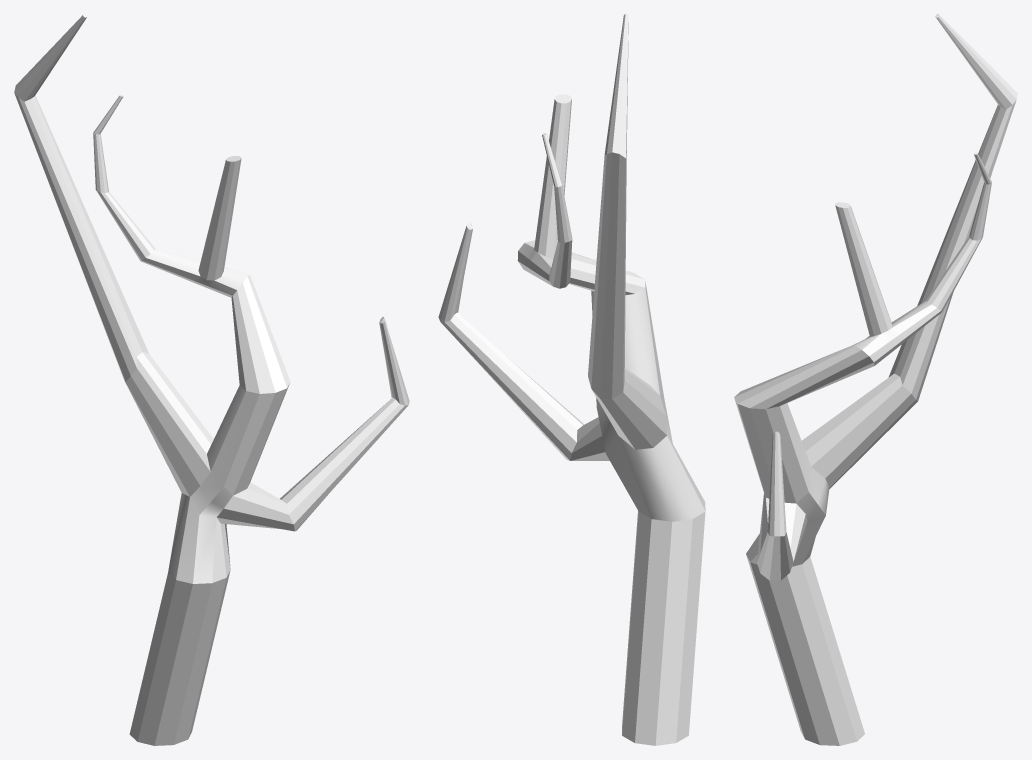
File: ramas1.fbx
3 views of the same model, side by side, from view 1: azimuth 30°, elevation 25°; view 2: azimuth 150°, elevation 25°; view 3: azimuth 270°, elevation 25° (orthographic). The views are drawn at different scales.
Parts seen in each view (by area): view 1: ramas1; view 2: ramas1; view 3: ramas1.
Part boxes in pixels (<box>): ramas1: <box>14,14,409,745</box>; ramas1: <box>438,14,705,745</box>; ramas1: <box>734,14,1017,745</box>.
Size of the model in its own units: 257 by 602 by 220.
